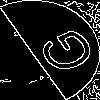G: (25, 25, 100, 82)
